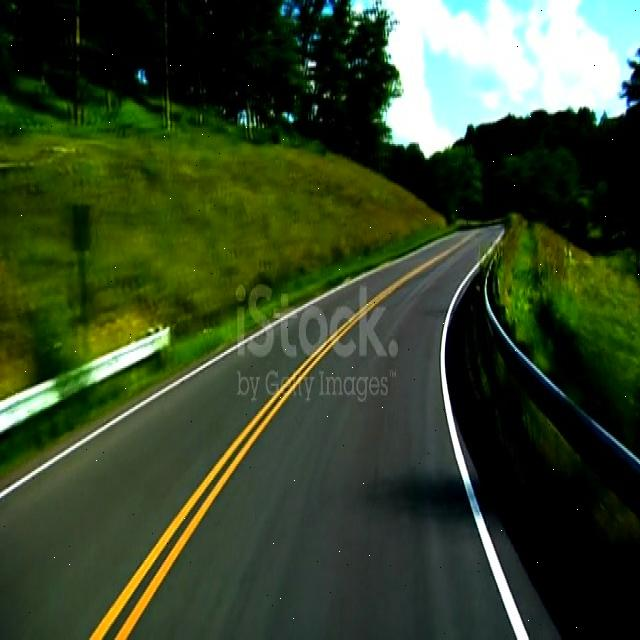lane: (90, 233, 472, 638), (2, 346, 235, 499), (440, 262, 529, 640)
road: (0, 226, 511, 636)
